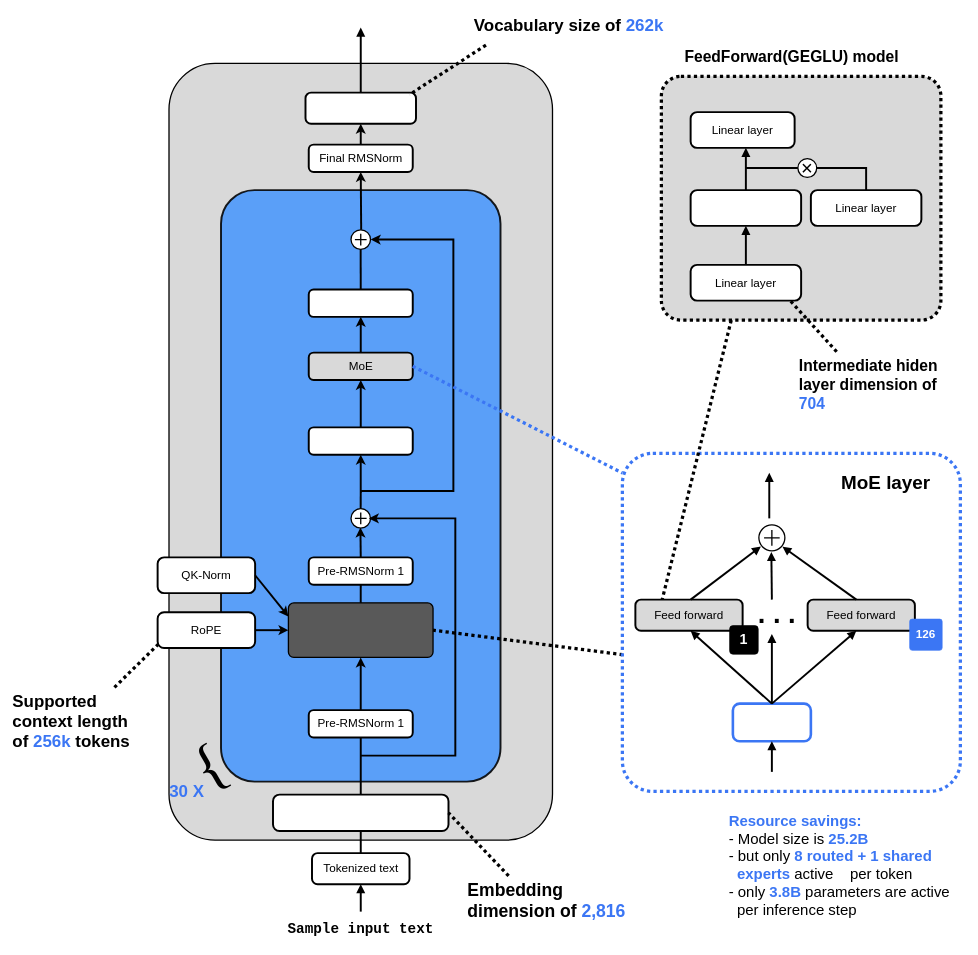
Image size: 978x955. Some labels were removed from this diagram. Each missing label, with the box of its shape:
5:1 (local:global) sliding window and GQA: (287, 602, 433, 658)
GELU activation: (689, 189, 802, 227)
Linear output layer: (304, 91, 417, 124)
Post-RMSNorm 2: (307, 288, 413, 318)
Pre-RMSNorm 2: (307, 426, 413, 455)
Router: (731, 702, 812, 742)
Token embedding layer: (272, 793, 449, 832)
